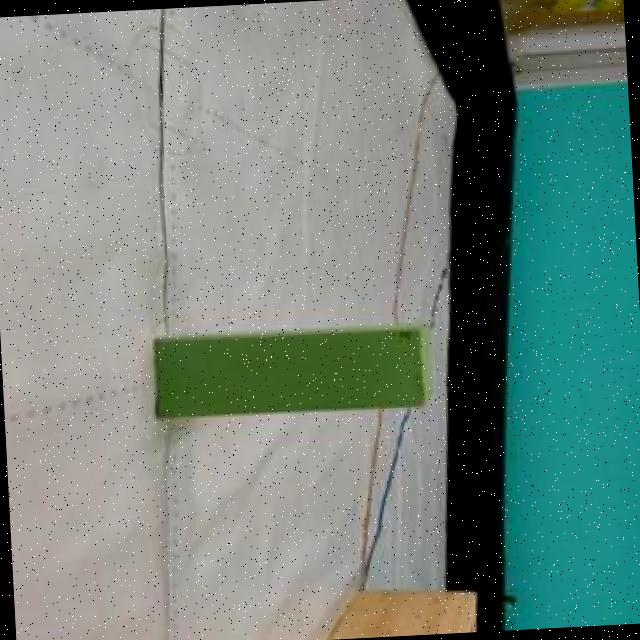greenbox: (150, 322, 430, 422)
